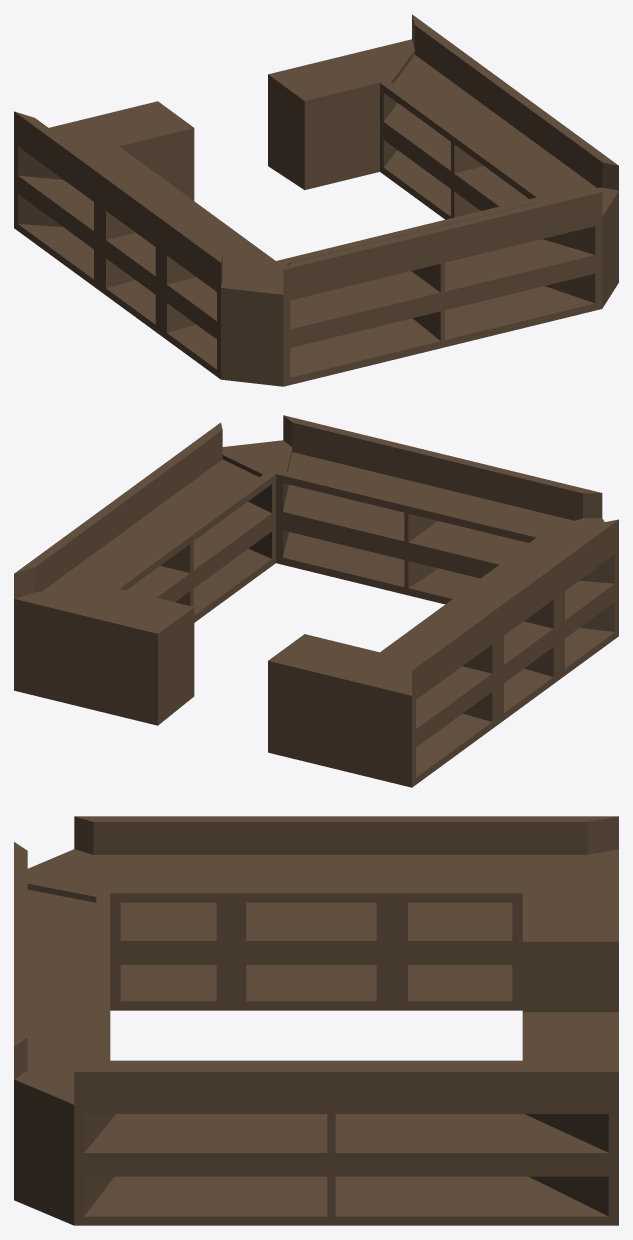
File: Kiosko 1.fbx
The picture shows the model from 3 angles, top to bottom: view 1: azimuth 30°, elevation 25°; view 2: azimuth 150°, elevation 25°; view 3: azimuth 270°, elevation 25°; orthographic projection. The views are drawn at different scales.
Visible parts, largest first — view 1: Kiosko_1; view 2: Kiosko_1; view 3: Kiosko_1.
Part boxes in pixels (bbox=[...]): Kiosko_1: bbox=[14, 14, 618, 386]; Kiosko_1: bbox=[14, 415, 618, 787]; Kiosko_1: bbox=[14, 816, 618, 1225].
Bounding box in the file's own units: 6.67 × 1.87 × 6.67.
